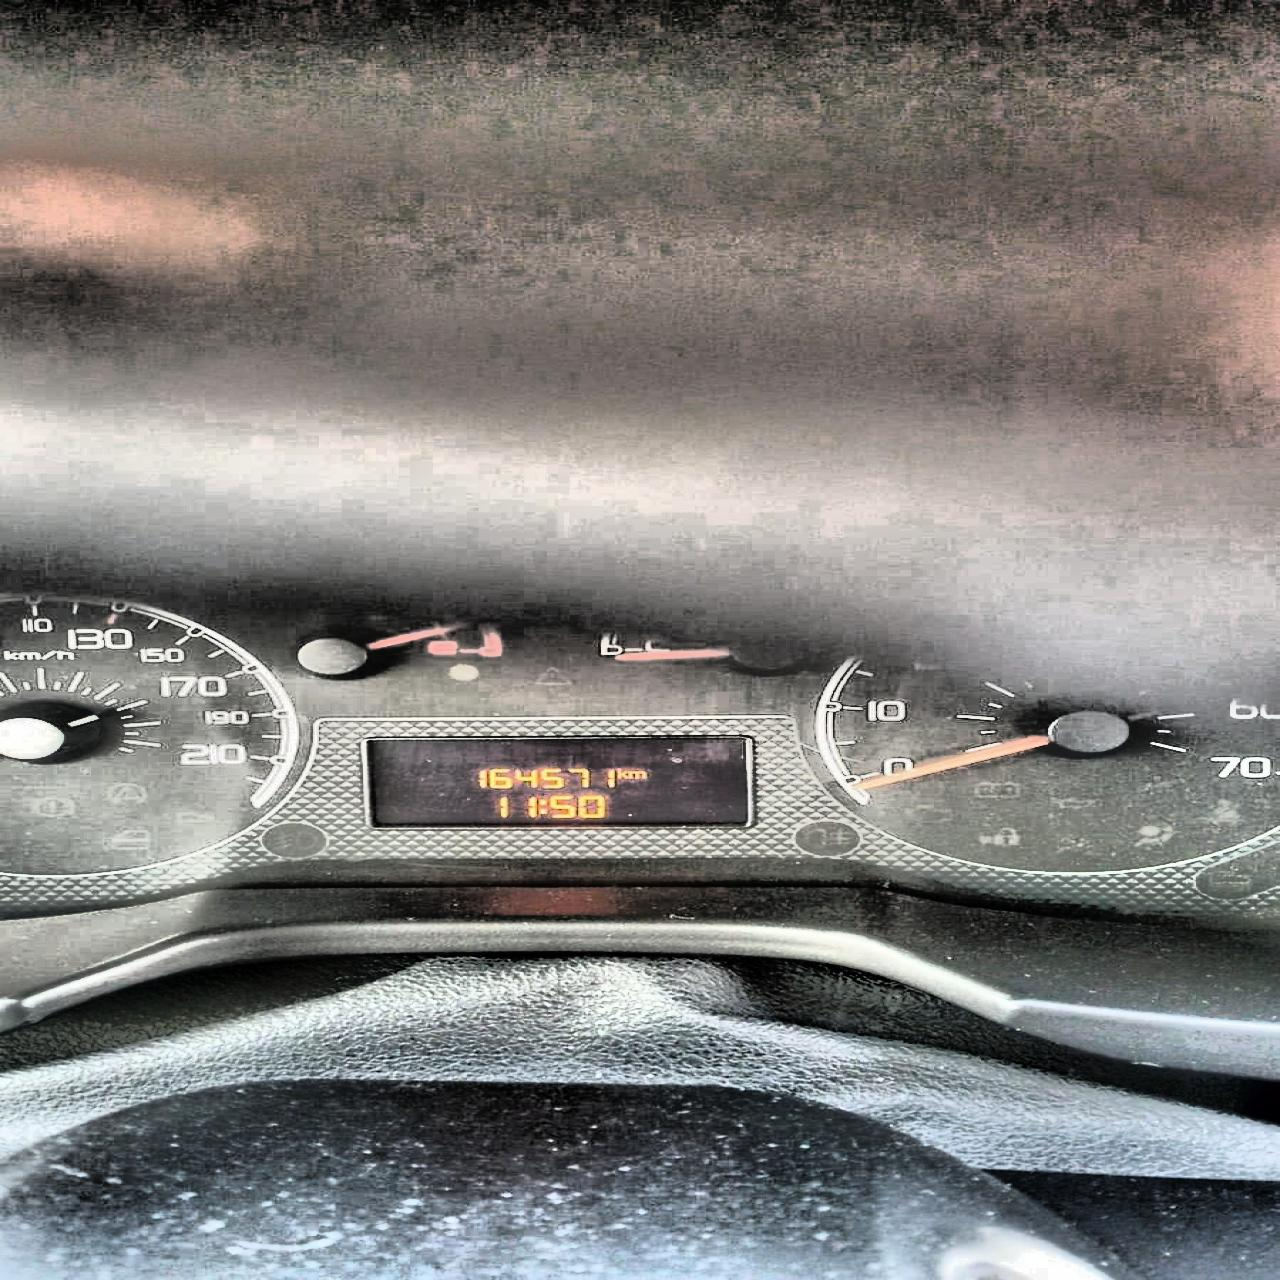0: (577, 794, 604, 817)
1: (496, 795, 511, 819), (525, 794, 537, 817), (477, 768, 486, 789), (605, 769, 615, 788)
4: (512, 768, 538, 787)
5: (549, 794, 576, 818), (539, 768, 563, 789)
6: (489, 767, 511, 789)
7: (570, 767, 591, 788)
X: (537, 797, 549, 815), (626, 769, 647, 778), (617, 767, 626, 778)
odometer: (366, 736, 754, 825)
